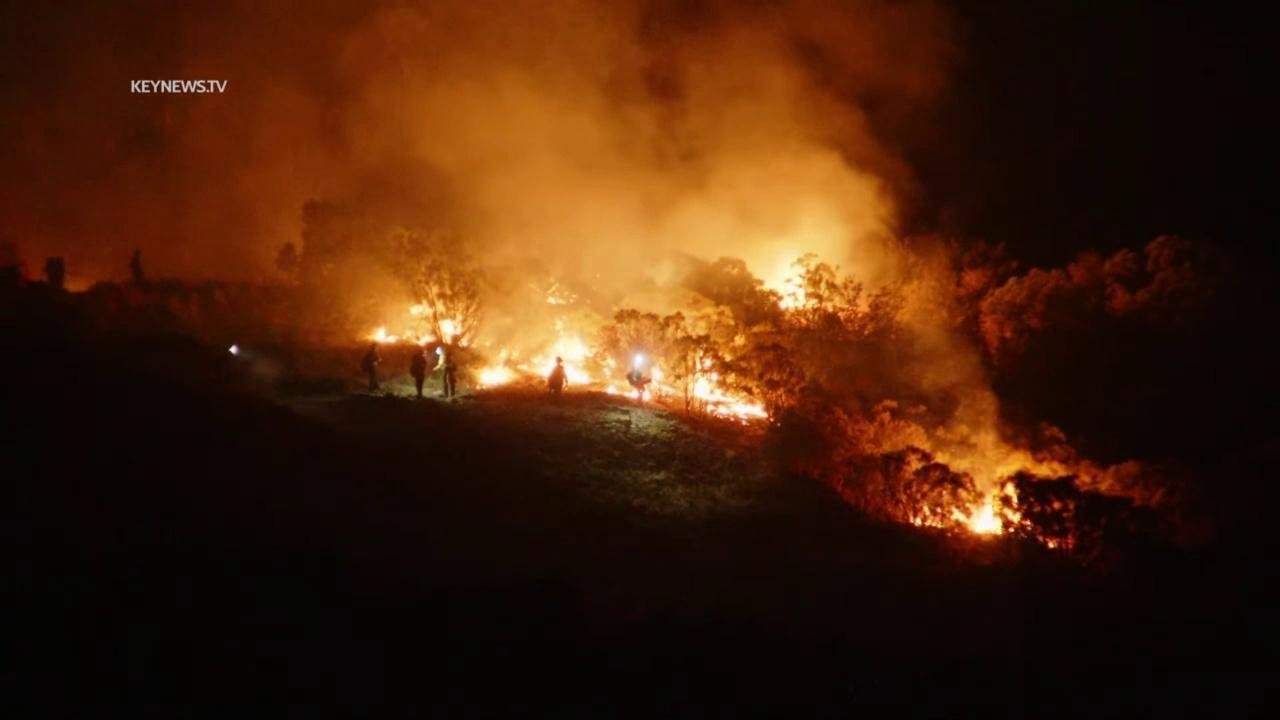fire: (907, 476, 1031, 539), (686, 345, 781, 427), (518, 313, 602, 390), (604, 352, 680, 403), (769, 259, 821, 313), (468, 347, 519, 392), (402, 318, 473, 349), (539, 280, 580, 306), (362, 325, 401, 343), (406, 303, 427, 314), (1046, 539, 1060, 554)
smoke: (0, 0, 1004, 496)
